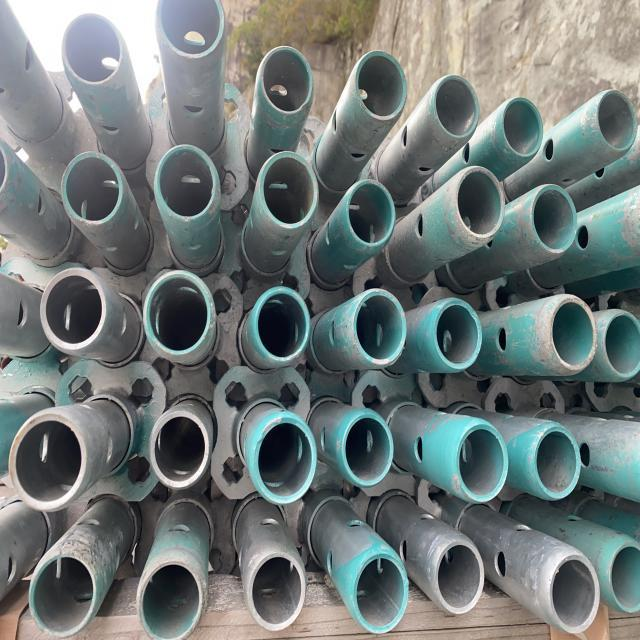pipe: (6, 410, 90, 514), (142, 268, 216, 362), (27, 551, 100, 640), (249, 414, 318, 506), (38, 266, 109, 353), (137, 557, 206, 640), (152, 143, 221, 224), (148, 408, 211, 490), (258, 150, 320, 232), (246, 550, 307, 633), (60, 150, 124, 228), (352, 550, 409, 636), (60, 12, 124, 88), (251, 284, 311, 364), (454, 421, 509, 504), (547, 550, 600, 635), (352, 288, 407, 368), (154, 0, 226, 61), (257, 44, 314, 118), (341, 411, 394, 488), (548, 295, 599, 374), (432, 296, 484, 373), (354, 49, 408, 122), (434, 538, 484, 616), (454, 165, 506, 240), (532, 424, 582, 501), (528, 182, 578, 257), (344, 178, 396, 248), (432, 72, 479, 141), (500, 95, 544, 161), (596, 88, 638, 156), (603, 309, 640, 381), (608, 538, 640, 615), (0, 138, 13, 202)
